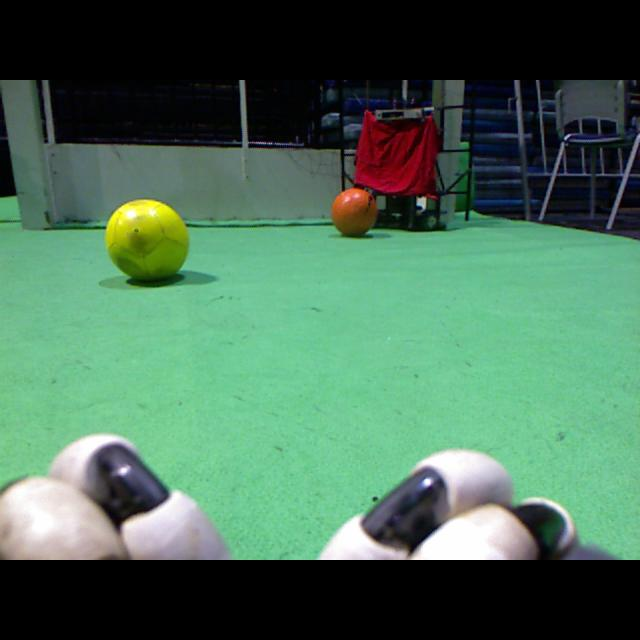ball: (106, 199, 189, 280), (331, 188, 377, 235)
goal: (1, 80, 51, 230), (439, 80, 464, 224)
